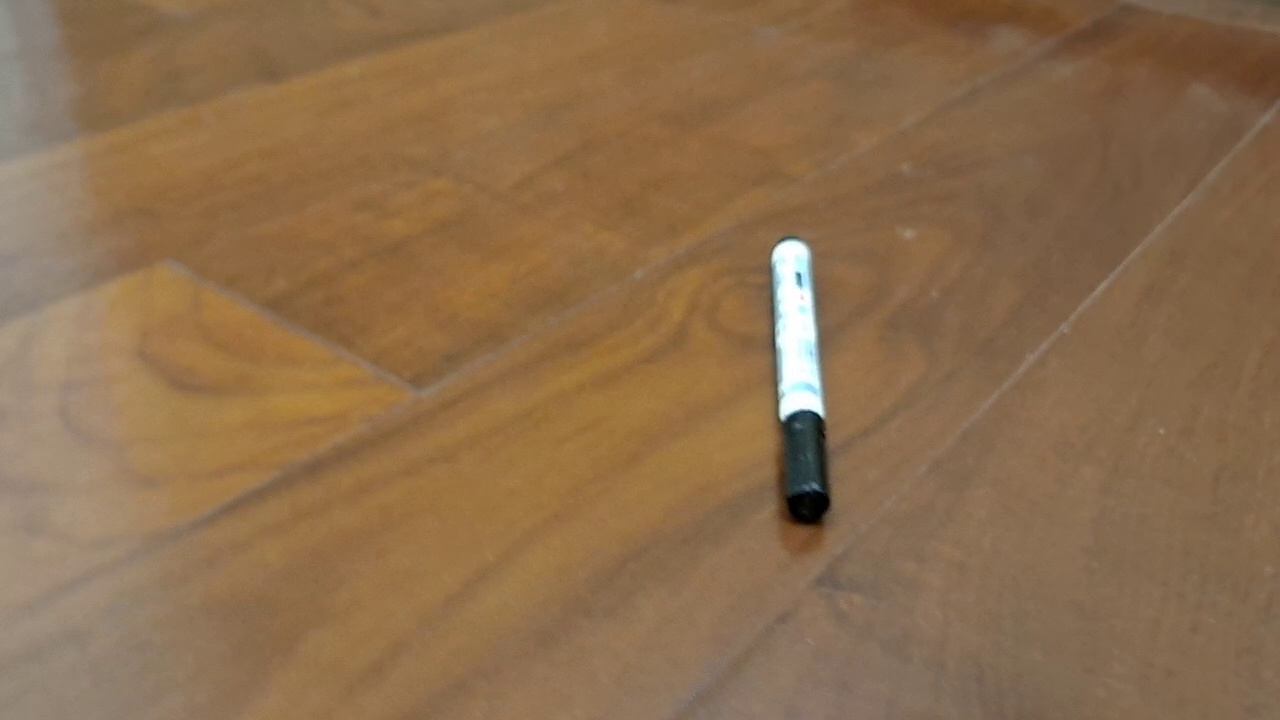pen: (769, 235, 831, 525)
